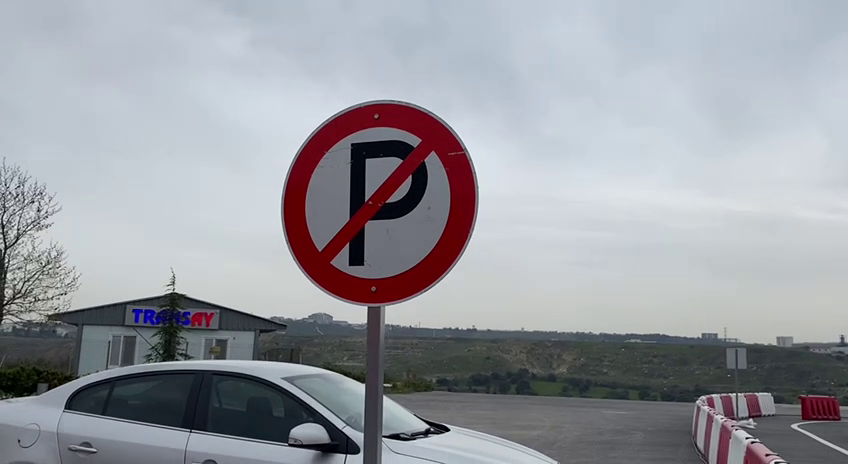noparking: (274, 95, 481, 311)
